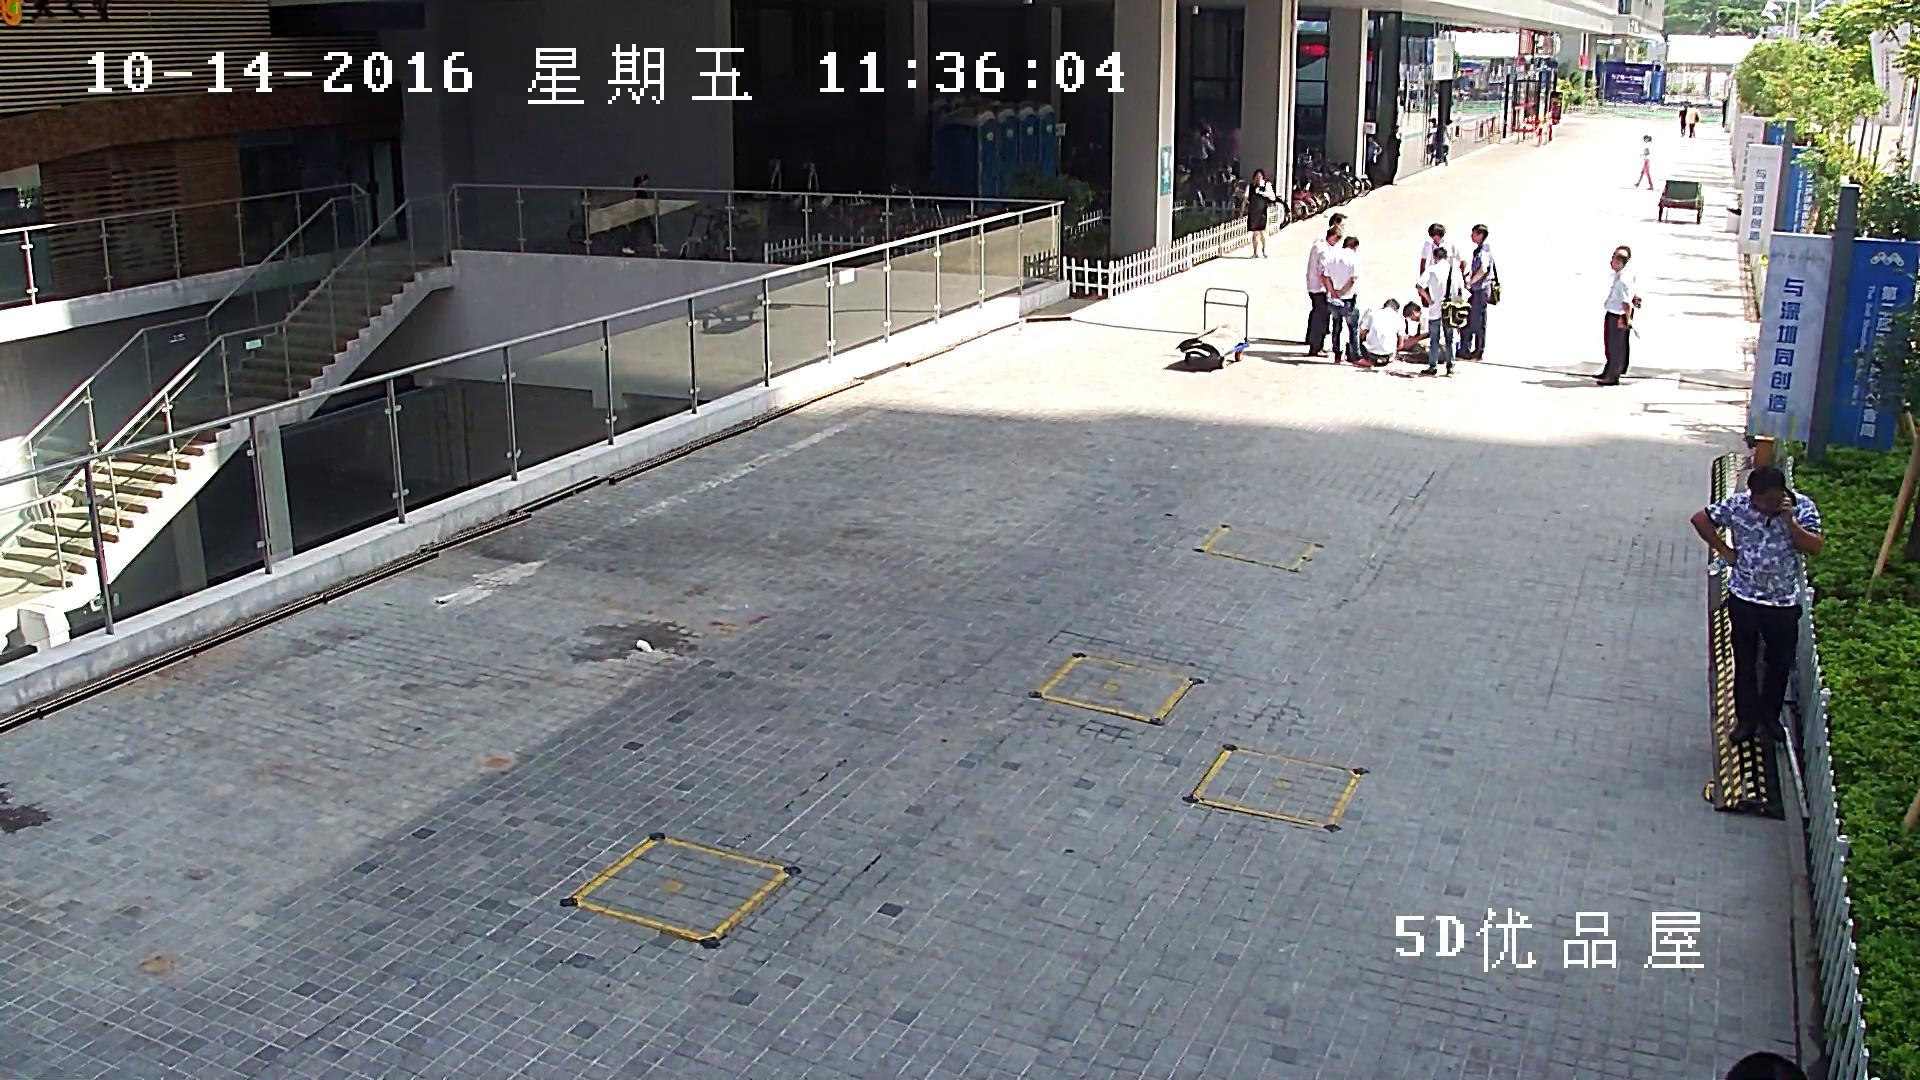person: (1690, 465, 1822, 742), (1415, 247, 1471, 377), (1592, 250, 1640, 385), (1456, 224, 1499, 360), (1307, 226, 1344, 355), (1322, 236, 1359, 363), (1421, 223, 1466, 306), (1353, 298, 1406, 366), (1616, 244, 1642, 374), (1402, 301, 1455, 362), (1239, 169, 1274, 259), (1190, 121, 1216, 200), (1633, 134, 1653, 189), (1386, 124, 1402, 185), (1365, 134, 1381, 189), (1435, 119, 1452, 166), (1426, 118, 1436, 164), (1685, 104, 1698, 137), (1677, 102, 1686, 136)
